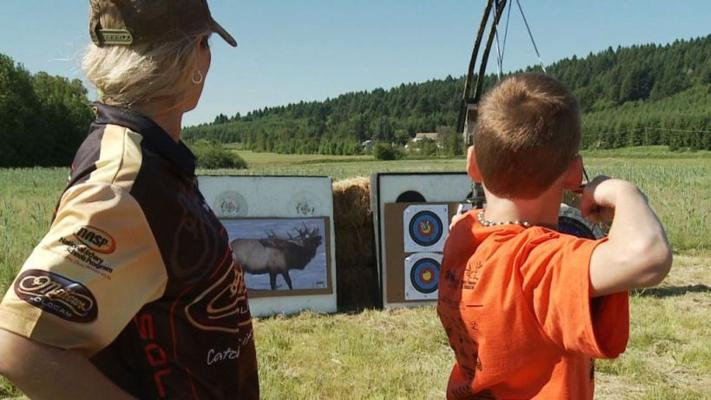person: (436, 72, 676, 400)
